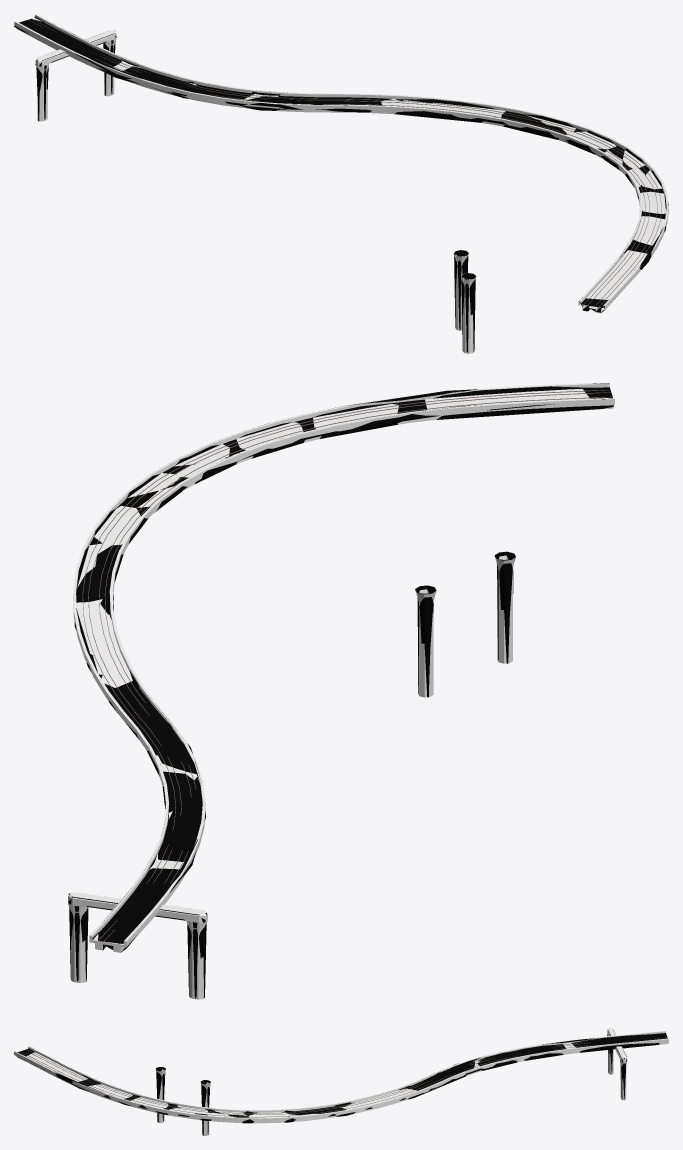
The model's file is elevated_rail_segment5.dae.
3 renders of one model, top to bottom at view 1: azimuth 30°, elevation 25°; view 2: azimuth 150°, elevation 25°; view 3: azimuth 270°, elevation 25°, orthographic. The views are drawn at different scales.
Parts seen in each view (by area): view 1: elevated_rail_segment5_a3000, elevated_rail_segment5_a2000; view 2: elevated_rail_segment5_a3000, elevated_rail_segment5_a2000; view 3: elevated_rail_segment5_a3000, elevated_rail_segment5_a2000.
Part boxes in pixels (bbox=[...]): elevated_rail_segment5_a3000: bbox=[14, 14, 668, 353]; elevated_rail_segment5_a2000: bbox=[14, 16, 668, 352]; elevated_rail_segment5_a3000: bbox=[68, 382, 614, 999]; elevated_rail_segment5_a2000: bbox=[68, 383, 613, 998]; elevated_rail_segment5_a3000: bbox=[14, 1028, 668, 1135]; elevated_rail_segment5_a2000: bbox=[15, 1029, 667, 1135].
Bounding box in the file's own units: 118 × 296 × 42.78.
